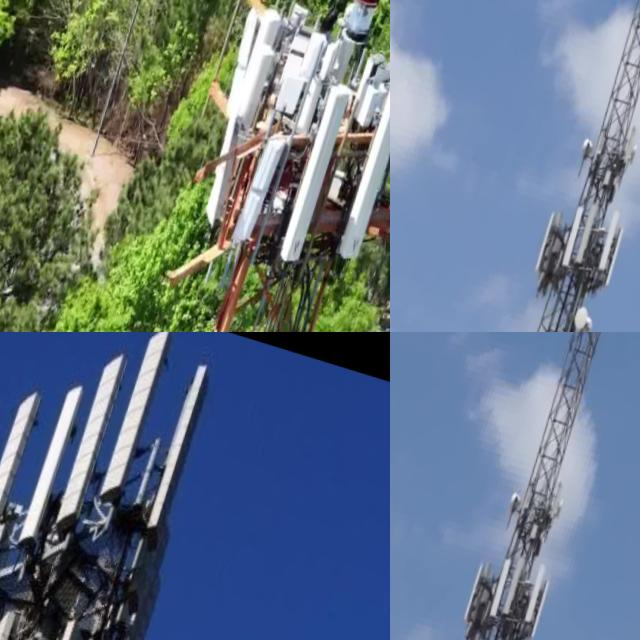GSM Antenna: (198, 0, 291, 222), (279, 70, 363, 268), (55, 335, 136, 532), (14, 368, 91, 549), (99, 332, 176, 500), (151, 348, 218, 519), (0, 369, 50, 575), (339, 69, 390, 266), (233, 116, 295, 256), (458, 554, 495, 636), (576, 191, 610, 271), (527, 551, 561, 628), (488, 548, 522, 623), (535, 562, 567, 640), (538, 202, 570, 274), (564, 198, 596, 268), (603, 200, 633, 271), (609, 222, 637, 290)
Microwave Antenna: (512, 480, 531, 514), (579, 297, 598, 327), (583, 131, 600, 157), (558, 488, 574, 515), (590, 309, 606, 332), (633, 130, 640, 165)
